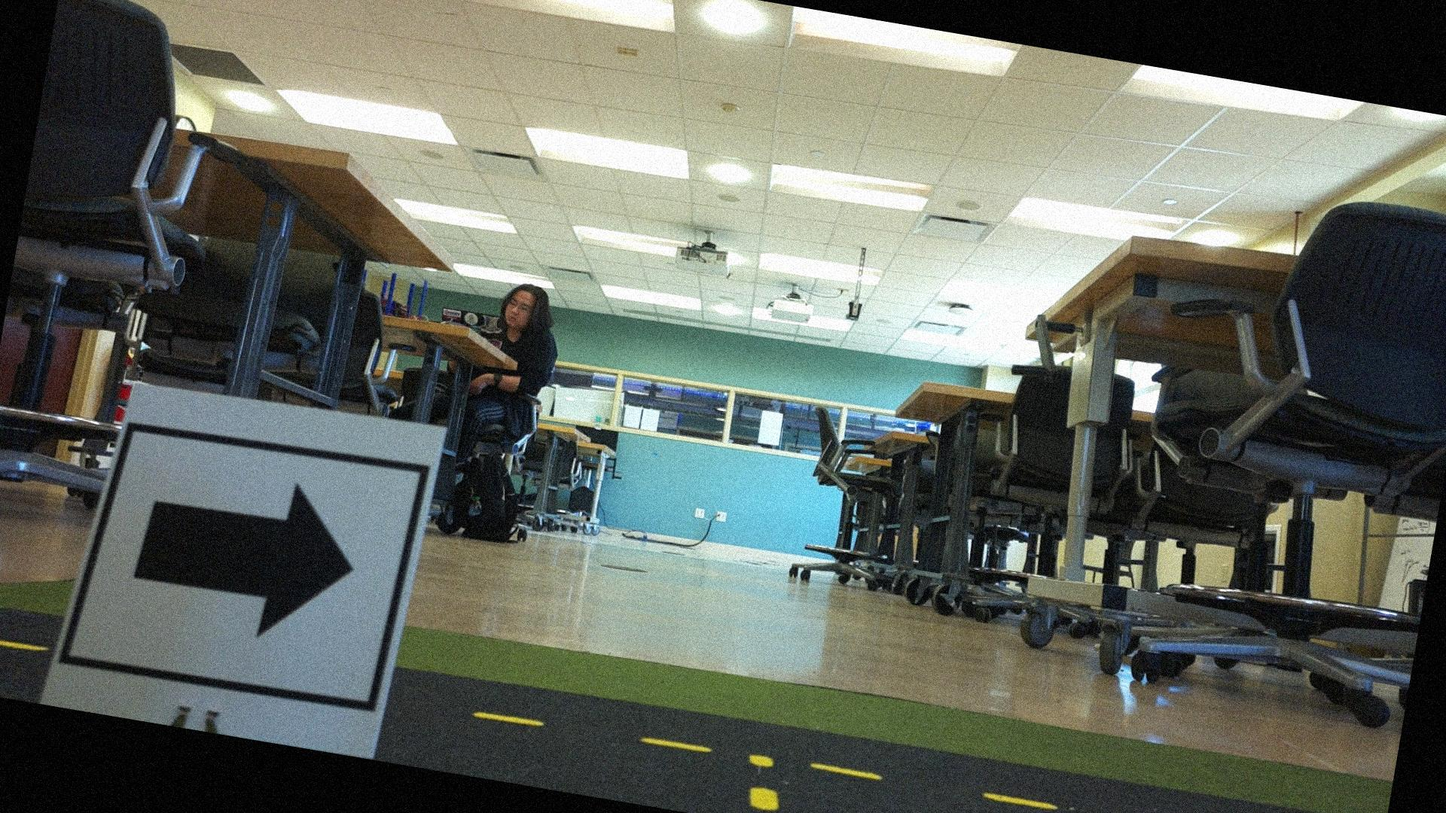turnright: (86, 428, 416, 717)
yellowline: (471, 704, 1380, 812), (739, 753, 789, 812)
